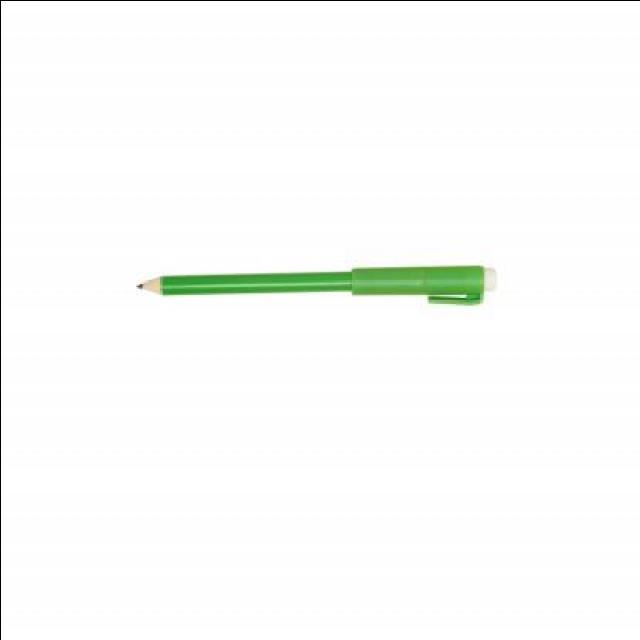pencil: (119, 263, 175, 314)
